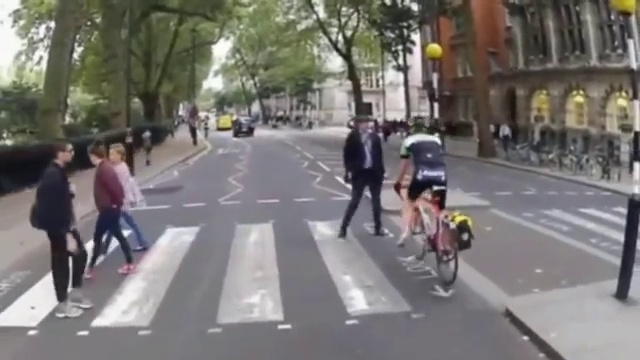cyclist_back: (394, 119, 475, 291)
